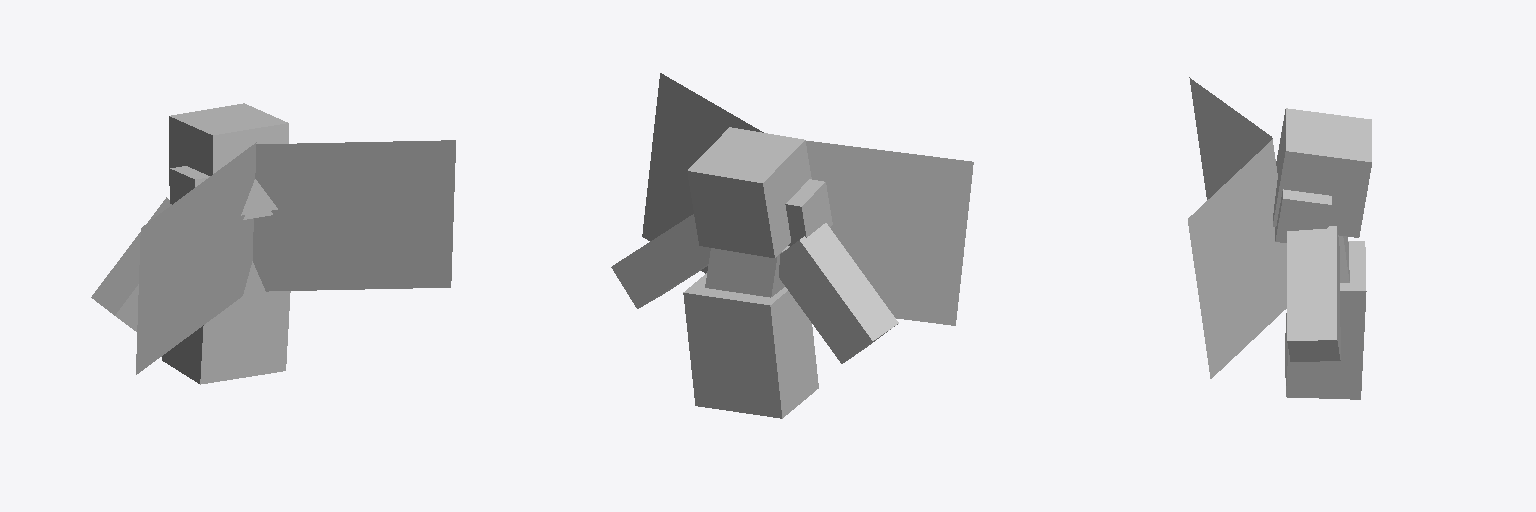
The model's file is christmas_angel.obj.
The picture shows the model from 3 angles: view 1: azimuth 30°, elevation 25°; view 2: azimuth 150°, elevation 25°; view 3: azimuth 270°, elevation 25°; orthographic projection.
Visible parts, largest first — view 1: Wing Right, Wing Left, Skirt, Hair, Arm Left; view 2: Wing Left, Skirt, Hair, Arm Left, Wing Right, Arm Right, Body; view 3: Wing Right, Hair, Arm Right, Skirt, Wing Left.
Boxes of the visible parts, x1=… form: Wing Right: x1=253, y1=140, x2=455, y2=291; Wing Left: x1=136, y1=142, x2=256, y2=374; Skirt: x1=162, y1=261, x2=290, y2=384; Hair: x1=169, y1=103, x2=288, y2=219; Arm Left: x1=91, y1=197, x2=171, y2=331; Wing Left: x1=806, y1=141, x2=973, y2=325; Skirt: x1=683, y1=273, x2=818, y2=418; Hair: x1=687, y1=127, x2=832, y2=257; Arm Left: x1=779, y1=223, x2=898, y2=363; Wing Right: x1=642, y1=73, x2=763, y2=273; Arm Right: x1=611, y1=214, x2=710, y2=308; Body: x1=705, y1=246, x2=789, y2=297; Wing Right: x1=1188, y1=139, x2=1286, y2=378; Hair: x1=1273, y1=108, x2=1371, y2=242; Arm Right: x1=1287, y1=226, x2=1340, y2=361; Skirt: x1=1285, y1=241, x2=1366, y2=399; Wing Left: x1=1189, y1=77, x2=1272, y2=199.
Size of the model in its own units: 0.9245 by 0.7053 by 0.4608.